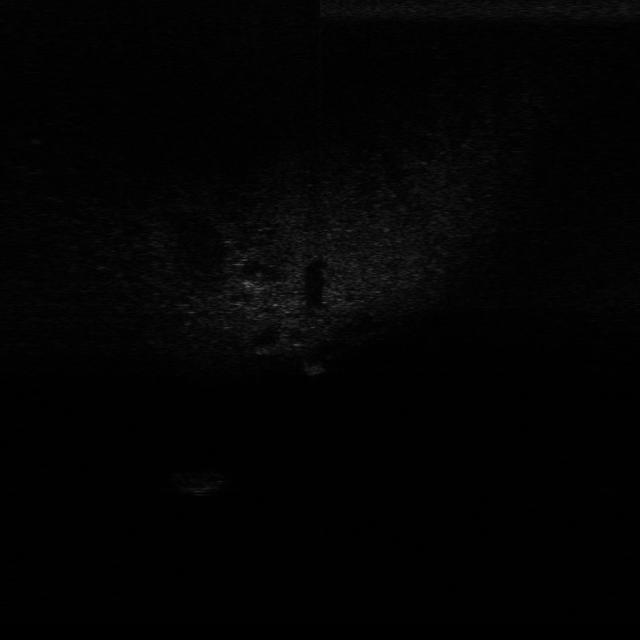circle cage: (166, 458, 237, 500)
cube: (300, 356, 328, 378)
